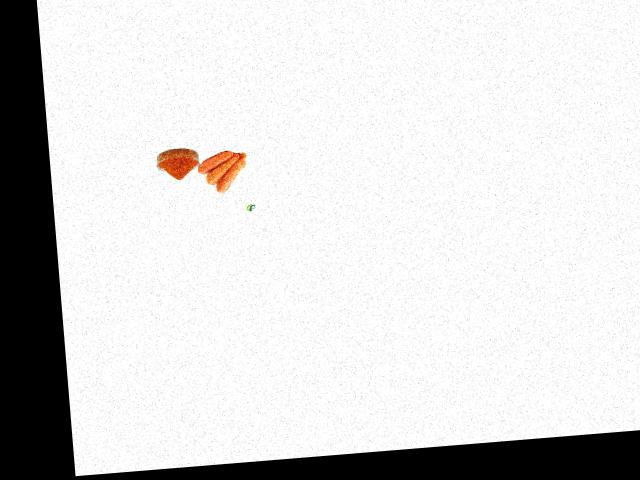carrot: (196, 146, 237, 174)
